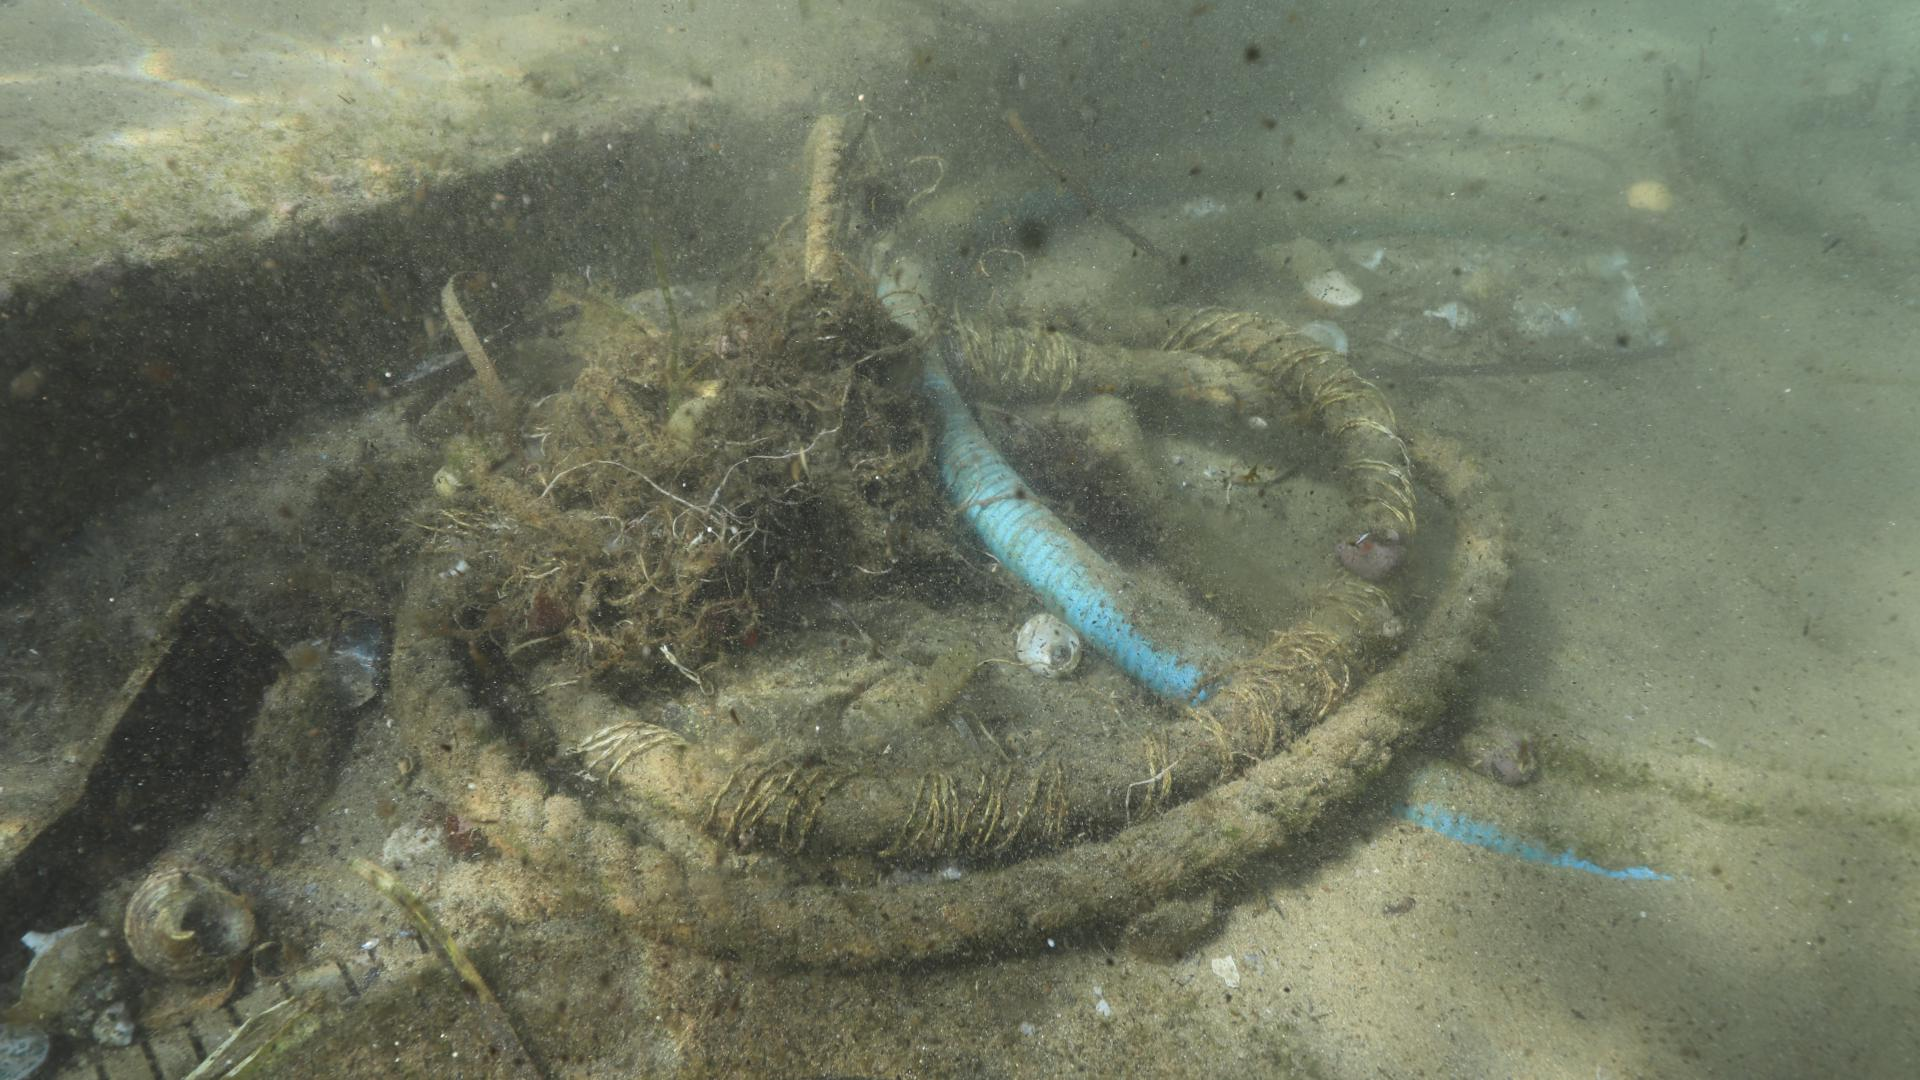bundle of ropes: (388, 109, 1920, 967)
